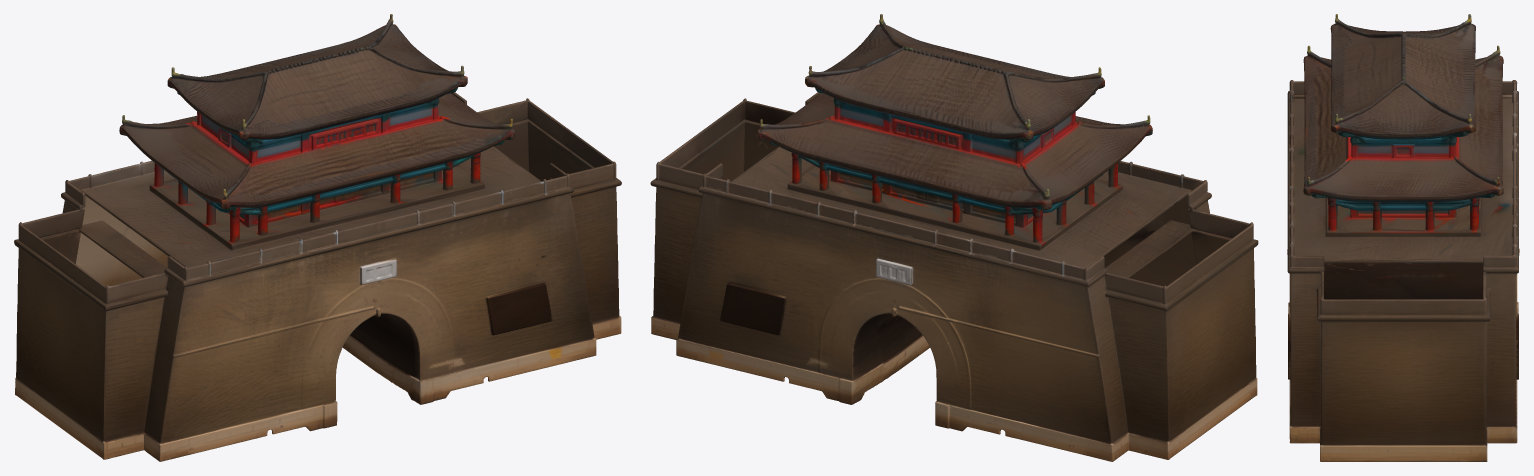
Rendered from 张家口大境门.glb.
The picture shows the model from 3 angles, left to right: view 1: azimuth 30°, elevation 25°; view 2: azimuth 150°, elevation 25°; view 3: azimuth 270°, elevation 25°; orthographic projection. The views are drawn at different scales.
Visible parts, largest first — view 1: texture_pbr_v128; view 2: texture_pbr_v128; view 3: texture_pbr_v128.
Part boxes in pixels (<box>): texture_pbr_v128: <box>14,14,621,461</box>; texture_pbr_v128: <box>650,14,1258,461</box>; texture_pbr_v128: <box>1287,14,1519,461</box>.
Bounding box in the file's own units: 0.9811 × 0.5664 × 0.4063.
1 material, 1 textured.
